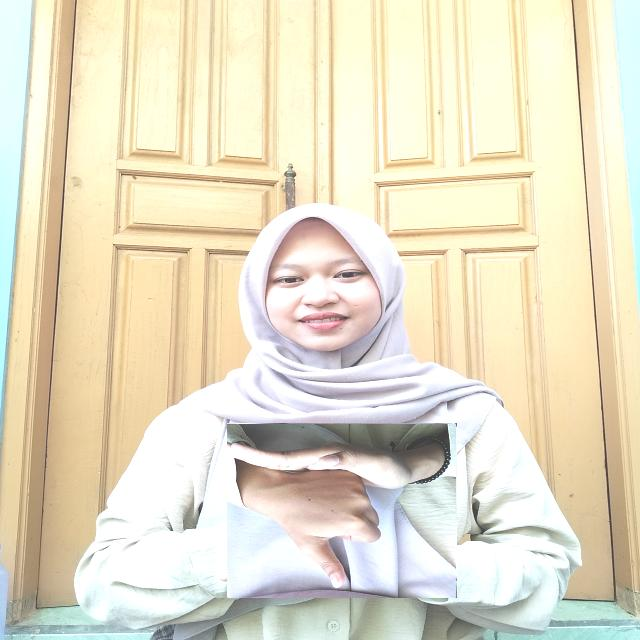cantik: (227, 423, 457, 598)
